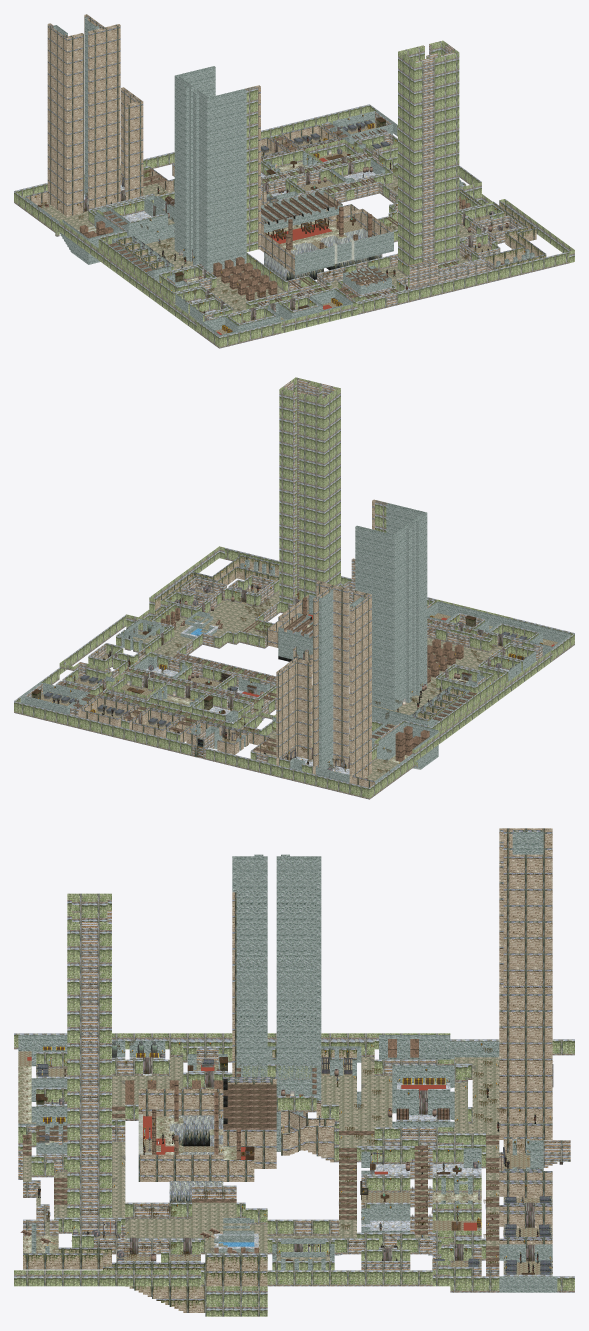
Rendered from map.gltf.
3 views of the same model, one above another, from view 1: azimuth 30°, elevation 25°; view 2: azimuth 150°, elevation 25°; view 3: azimuth 270°, elevation 25° (orthographic). The views are drawn at different scales.
Size of the model in its own units: 128 by 81.5 by 126.
63 materials, 63 textured.
